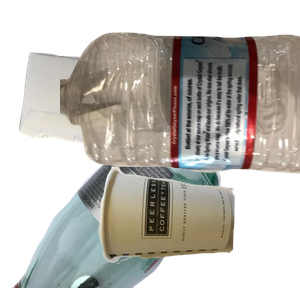glass: (10, 120, 224, 300)
paper: (17, 50, 231, 230)
plastic: (60, 30, 300, 196)
trash: (95, 164, 300, 300)
